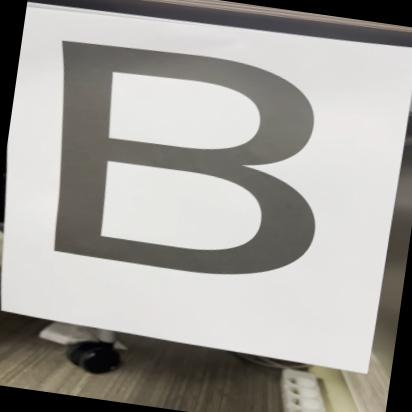seat: (10, 24, 360, 303)
